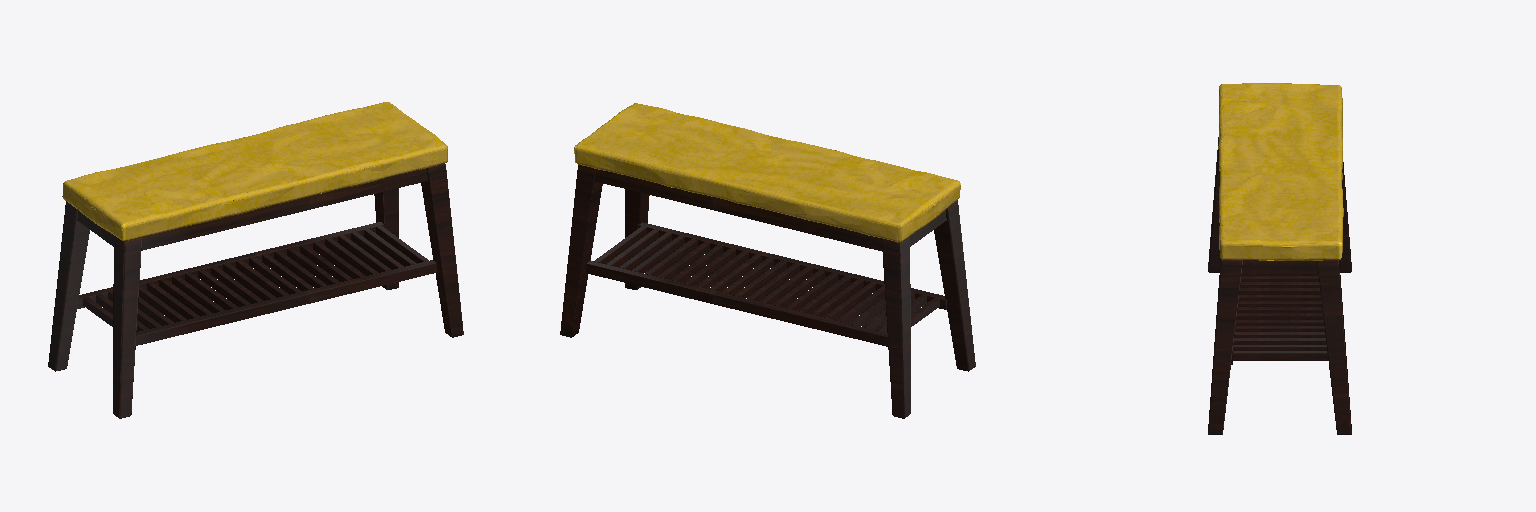
3 views of the same model, side by side, from view 1: azimuth 30°, elevation 25°; view 2: azimuth 150°, elevation 25°; view 3: azimuth 270°, elevation 25° (orthographic).
Visible parts, largest first — view 1: solid_001, solid_002; view 2: solid_001, solid_002; view 3: solid_002, solid_001.
Boxes of the visible parts, box(x1,y1,x2,y2) form: solid_001: box(48, 163, 463, 418); solid_002: box(62, 102, 447, 240); solid_001: box(560, 165, 975, 418); solid_002: box(574, 103, 960, 242); solid_002: box(1218, 83, 1343, 260); solid_001: box(1208, 137, 1351, 434).
Size of the model in its own units: 0.948 by 0.4995 by 0.3424.
Materials: 1 (1 with a texture image).